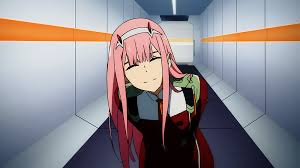zeroTwo: (108, 18, 177, 93)
